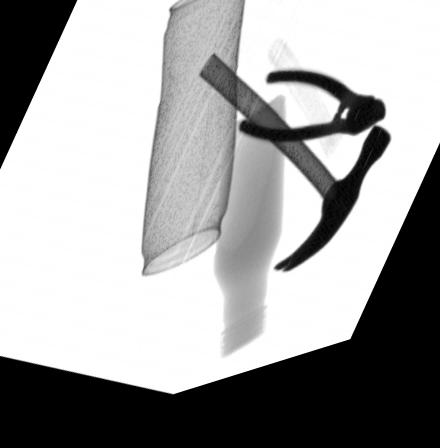Hammer: (199, 66, 392, 290)
Pliers: (238, 86, 388, 160)
